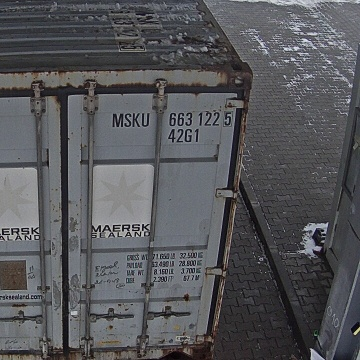serial_id: (112, 112, 231, 127)
